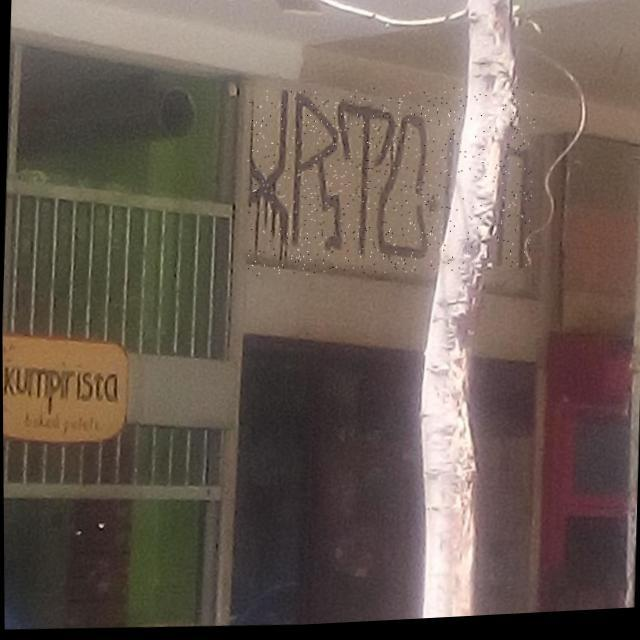-: (242, 80, 536, 288)
